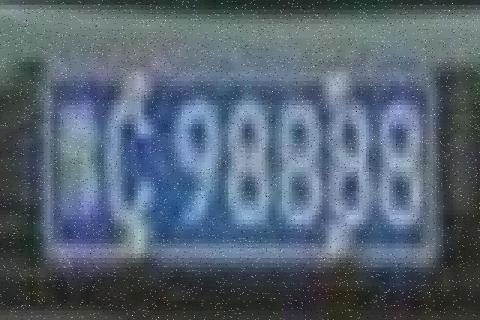LicensePlate: (34, 49, 442, 263)
